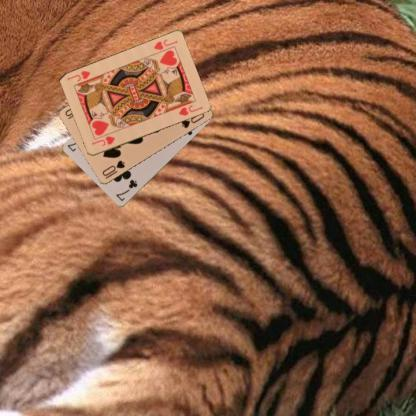10s: (99, 158, 126, 180)
7c: (113, 178, 138, 202)
Jh: (150, 36, 178, 52), (89, 133, 116, 148)
